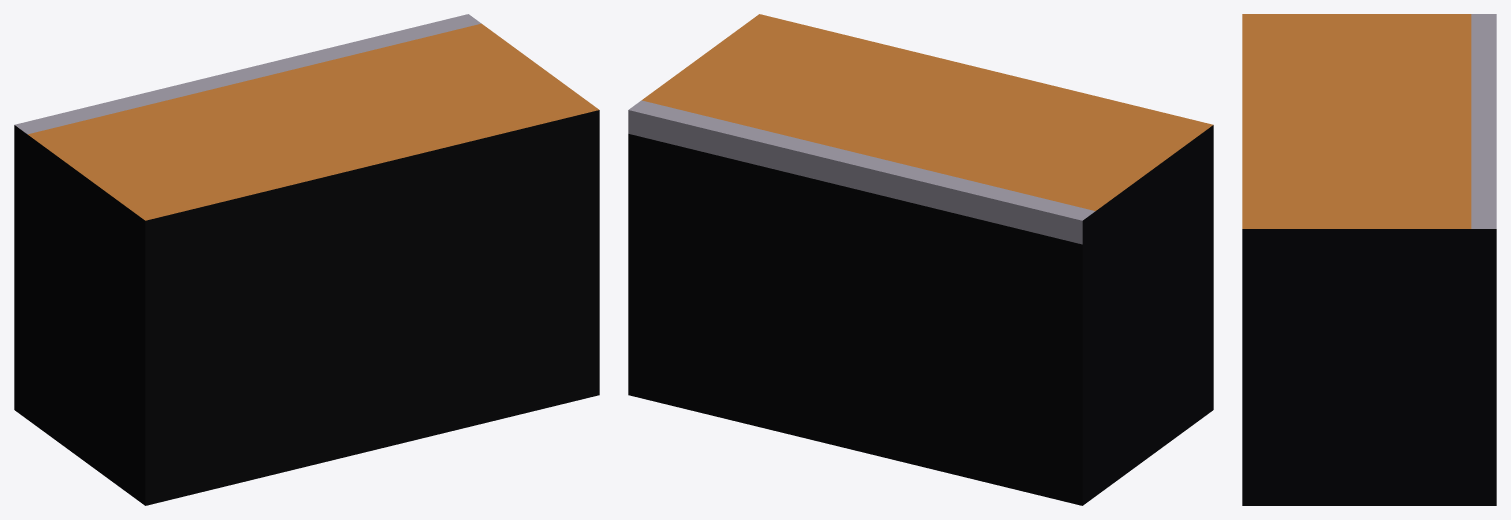
Rendered from ManPad_Half_6_OneGrind.obj.
3 renders of one model, left to right at view 1: azimuth 30°, elevation 25°; view 2: azimuth 150°, elevation 25°; view 3: azimuth 270°, elevation 25°, orthographic. The views are drawn at different scales.
Parts seen in each view (by area): view 1: ManPad_Half_6_OneGrind; view 2: ManPad_Half_6_OneGrind; view 3: ManPad_Half_6_OneGrind.
Part boxes in pixels (<box>): ManPad_Half_6_OneGrind: <box>14,14,599,505</box>; ManPad_Half_6_OneGrind: <box>628,14,1213,505</box>; ManPad_Half_6_OneGrind: <box>1242,14,1496,505</box>.
Size of the model in its own units: 10 by 6 by 5.
